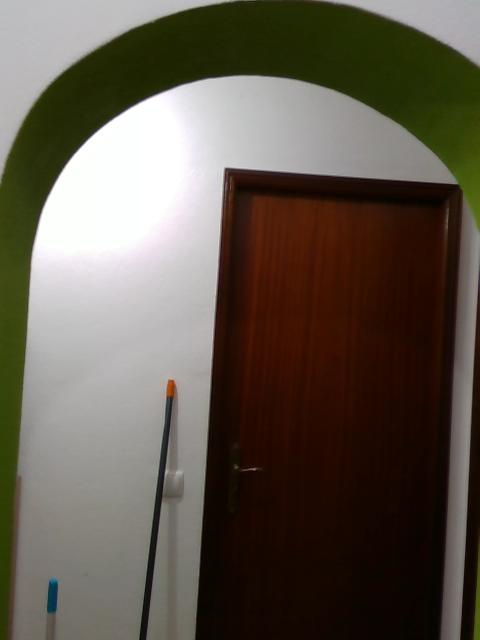door: (219, 189, 447, 640)
